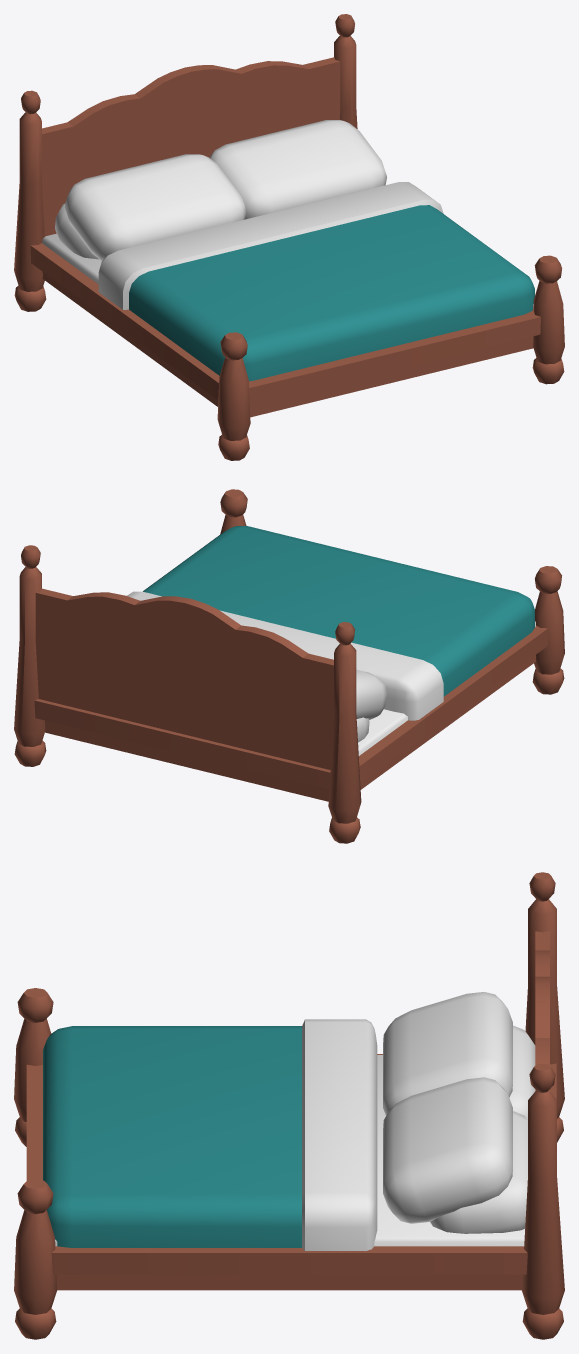
The model's file is bed_green.fbx.
3 renders of one model, top to bottom at view 1: azimuth 30°, elevation 25°; view 2: azimuth 150°, elevation 25°; view 3: azimuth 270°, elevation 25°, orthographic. The views are drawn at different scales.
Visible parts, largest first — view 1: bed_green; view 2: bed_green; view 3: bed_green.
Boxes of the visible parts, x1=… form: bed_green: x1=14, y1=14, x2=564, y2=460; bed_green: x1=14, y1=489, x2=564, y2=843; bed_green: x1=14, y1=872, x2=564, y2=1339.
Bounding box in the file's own units: 2.87 × 1.71 × 3.19.
